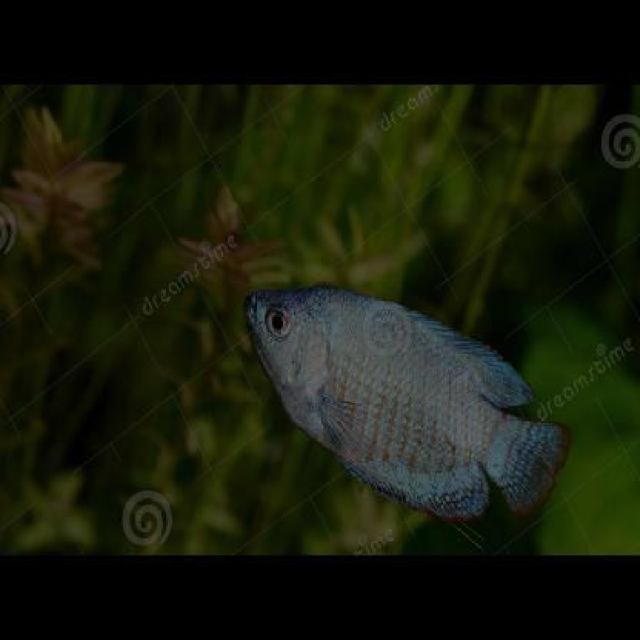Gourami: (246, 279, 572, 521)
